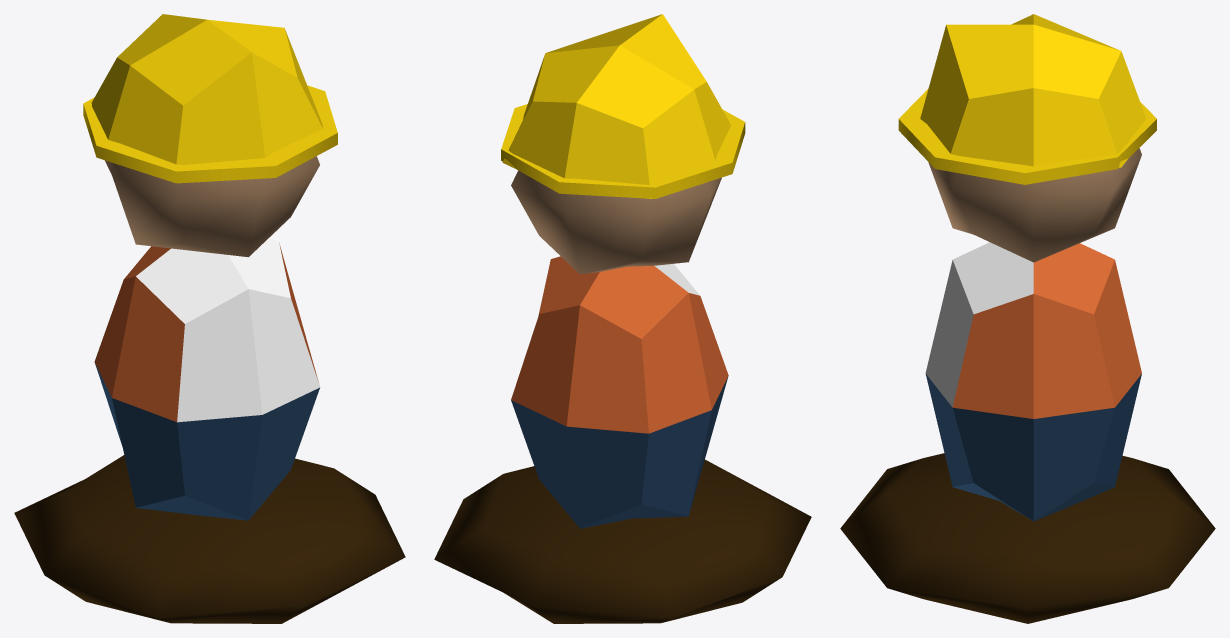
Rendered from elchambeador.glb.
The picture shows the model from 3 angles, left to right: view 1: azimuth 30°, elevation 25°; view 2: azimuth 150°, elevation 25°; view 3: azimuth 270°, elevation 25°; orthographic projection. The views are drawn at different scales.
Parts seen in each view (by area): view 1: Base, Cube 5, Playera, Pantalones, Cabeza, Chaleco, Ellipse; view 2: Base, Chaleco, Cube 5, Pantalones, Cabeza, Ellipse; view 3: Base, Cube 5, Chaleco, Pantalones, Cabeza, Playera, Ellipse.
Boxes of the visible parts, bbox=[...] form: Base: bbox=[14, 455, 405, 623]; Cube 5: bbox=[91, 14, 322, 164]; Playera: bbox=[136, 238, 319, 422]; Pantalones: bbox=[95, 363, 319, 520]; Cabeza: bbox=[105, 156, 319, 257]; Chaleco: bbox=[94, 243, 318, 421]; Ellipse: bbox=[83, 85, 337, 183]; Base: bbox=[434, 459, 811, 623]; Chaleco: bbox=[511, 256, 728, 433]; Cube 5: bbox=[502, 14, 731, 198]; Pantalones: bbox=[511, 376, 728, 528]; Cabeza: bbox=[511, 170, 721, 274]; Ellipse: bbox=[501, 104, 745, 198]; Base: bbox=[840, 453, 1215, 623]; Cube 5: bbox=[920, 14, 1146, 167]; Chaleco: bbox=[952, 243, 1141, 418]; Pantalones: bbox=[925, 374, 1141, 521]; Cabeza: bbox=[928, 148, 1141, 262]; Playera: bbox=[925, 242, 1033, 407]; Ellipse: bbox=[898, 88, 1156, 184].
Bounding box in the file's own units: 0.4911 × 0.7964 × 0.4911.
